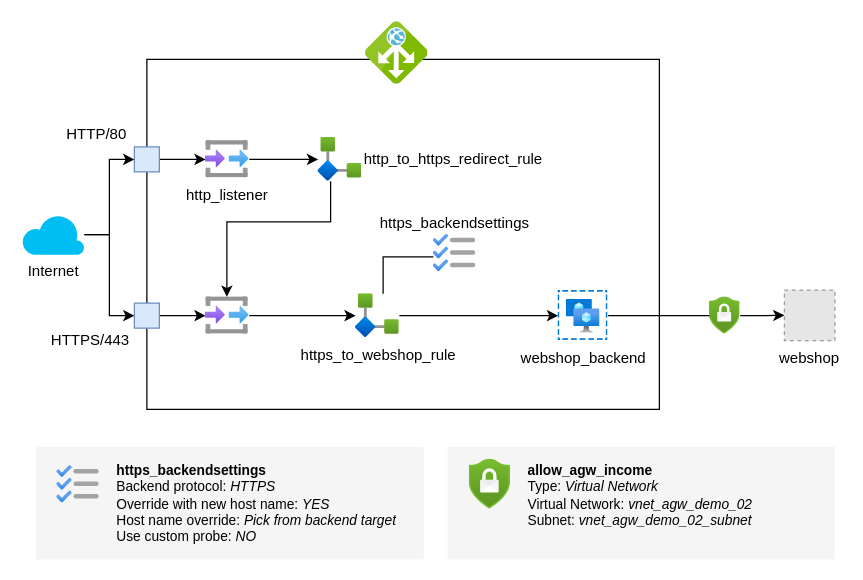
The diagram is 863 pixels wide and 580 high, and some of its shapes have lost their labels. Grey dashed boxes stand in for pictures. The shapes that lost their labels are listed below. From the top down, each one's centre as x and y in pixels, then its label:
(x=396, y=52): AGW
(x=227, y=315): https_listener
(x=724, y=315): allow_agw_income
